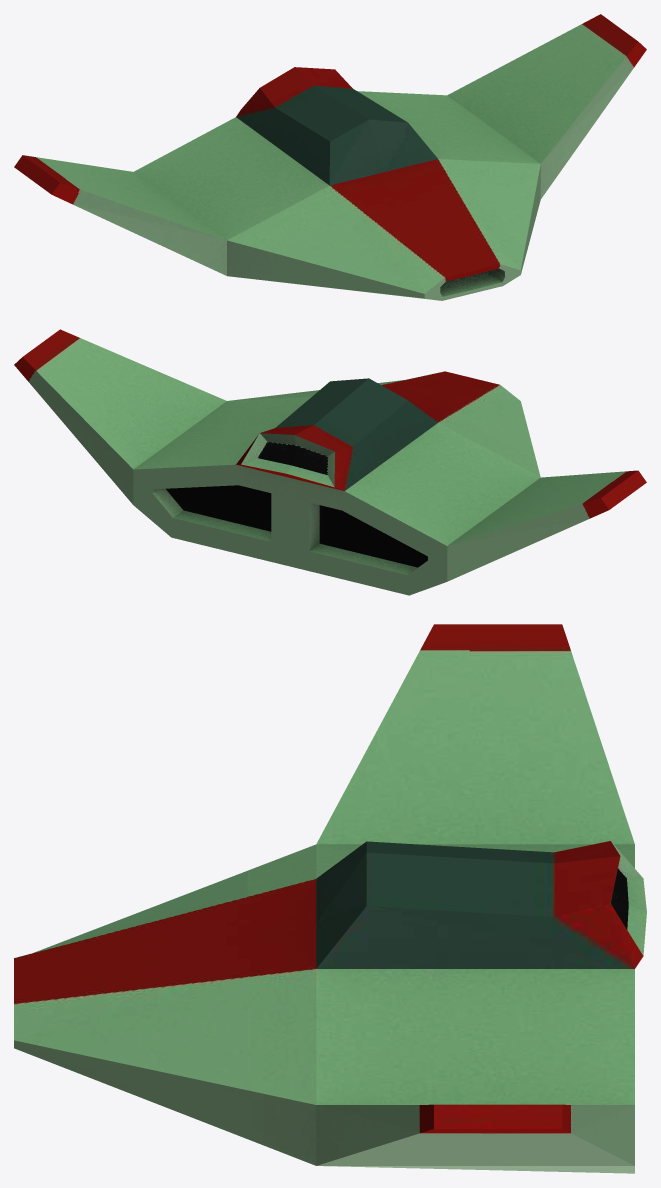
File: MiniJet.fbx
3 renders of one model, top to bottom at view 1: azimuth 30°, elevation 25°; view 2: azimuth 150°, elevation 25°; view 3: azimuth 270°, elevation 25°, orthographic. The views are drawn at different scales.
Parts seen in each view (by area): view 1: MiniJet_04; view 2: MiniJet_04; view 3: MiniJet_04.
Part boxes in pixels (bbox=[...]): MiniJet_04: bbox=[14, 14, 646, 300]; MiniJet_04: bbox=[14, 329, 646, 595]; MiniJet_04: bbox=[14, 624, 646, 1173].
Size of the model in its own units: 10.95 by 2.29 by 5.92.
